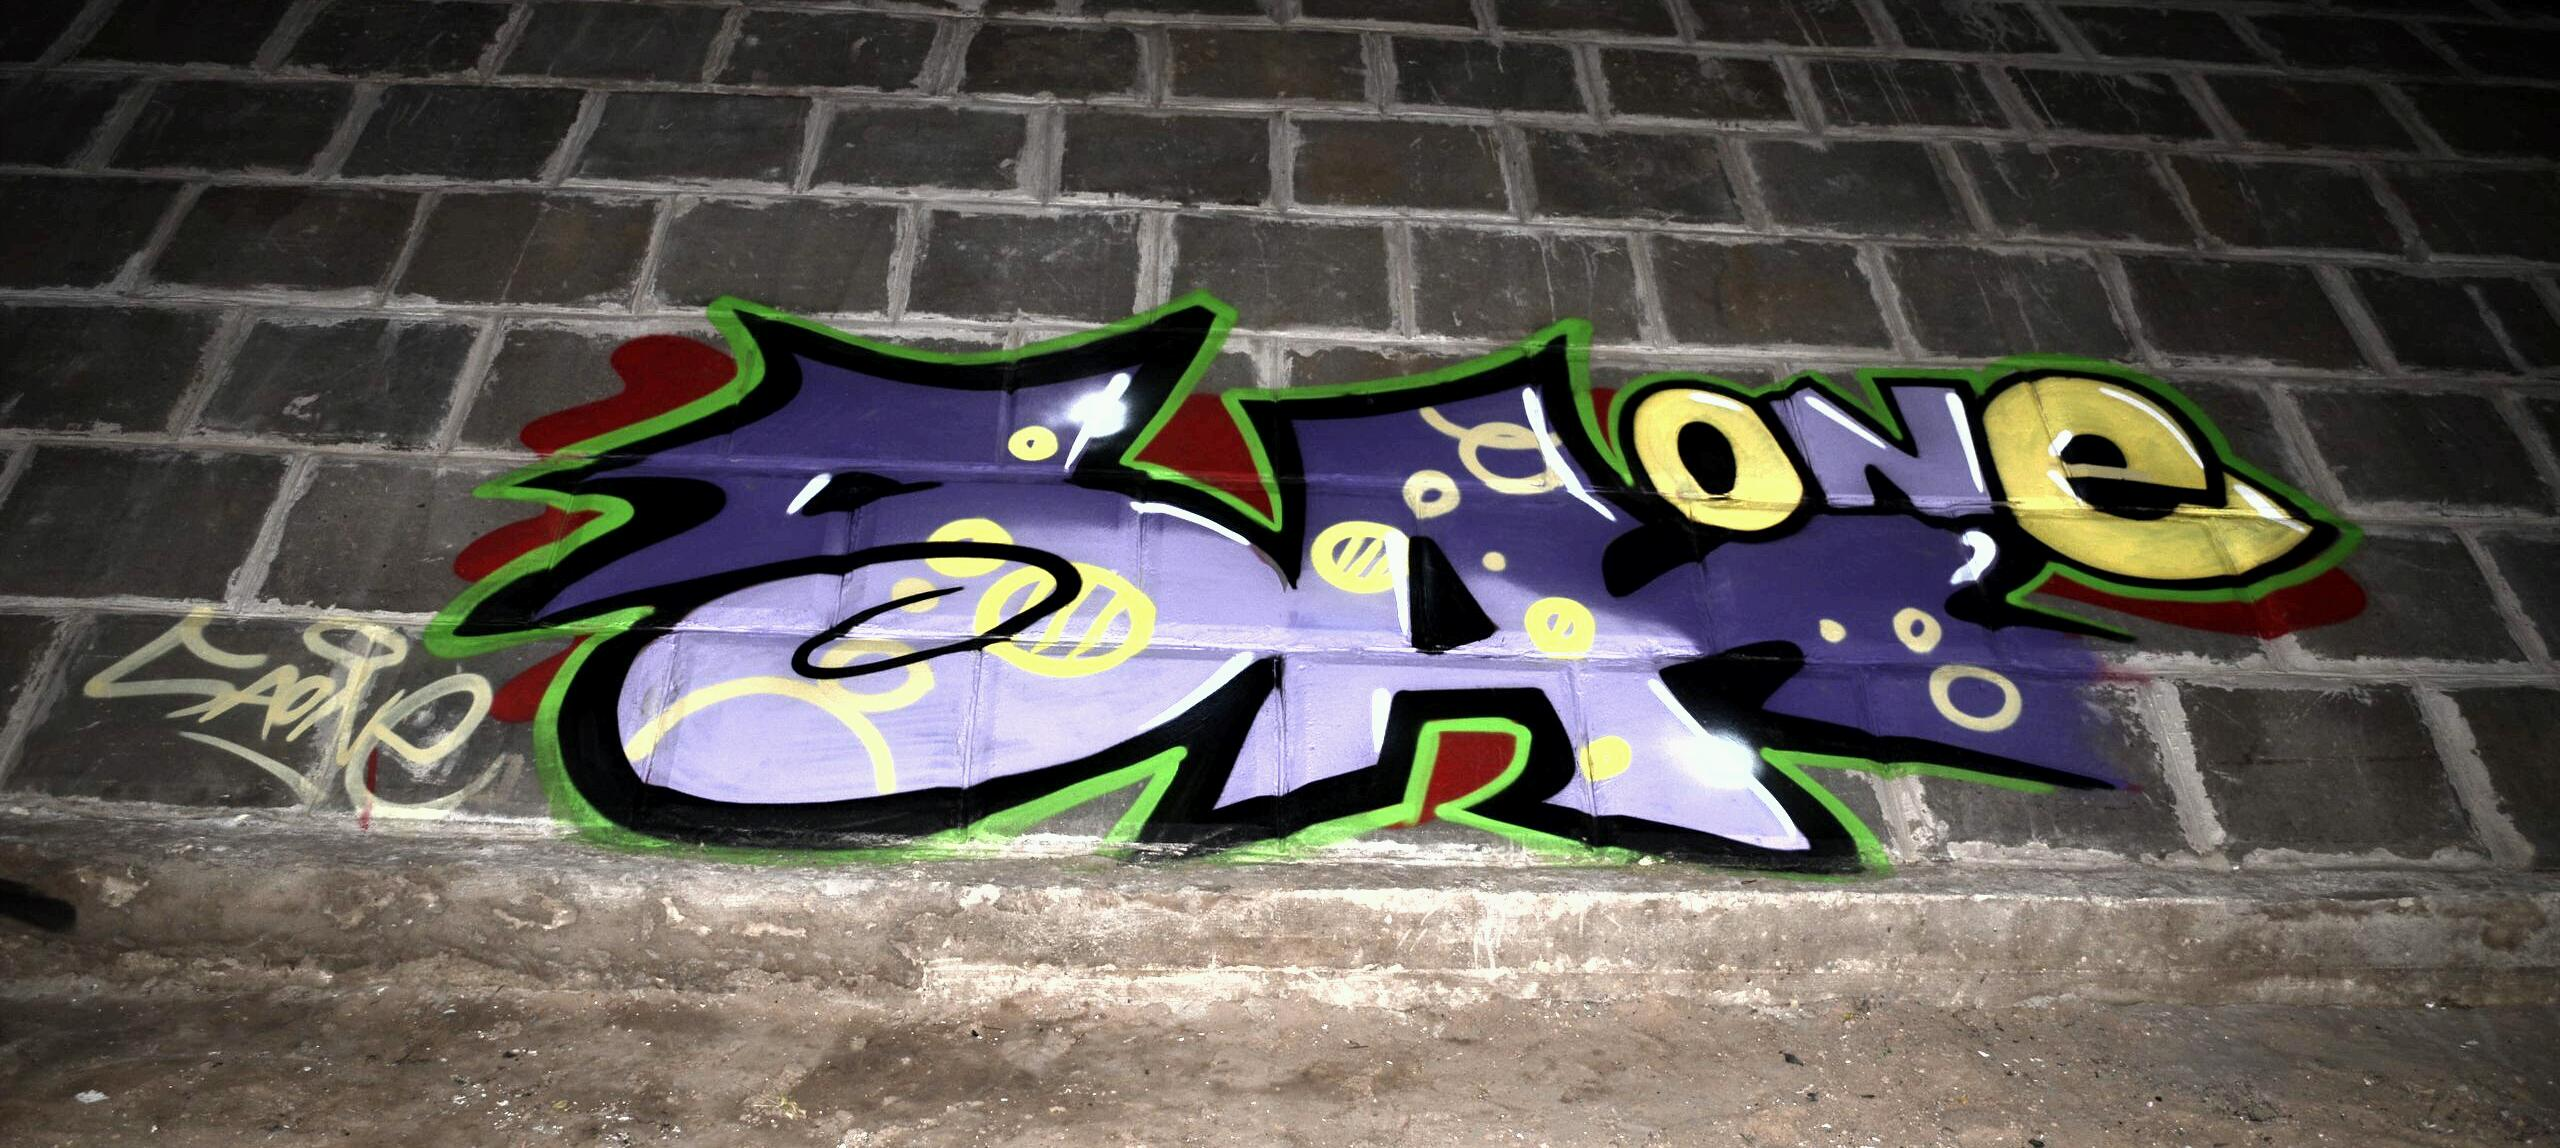graffity: (424, 269, 2385, 883), (65, 590, 571, 826)
